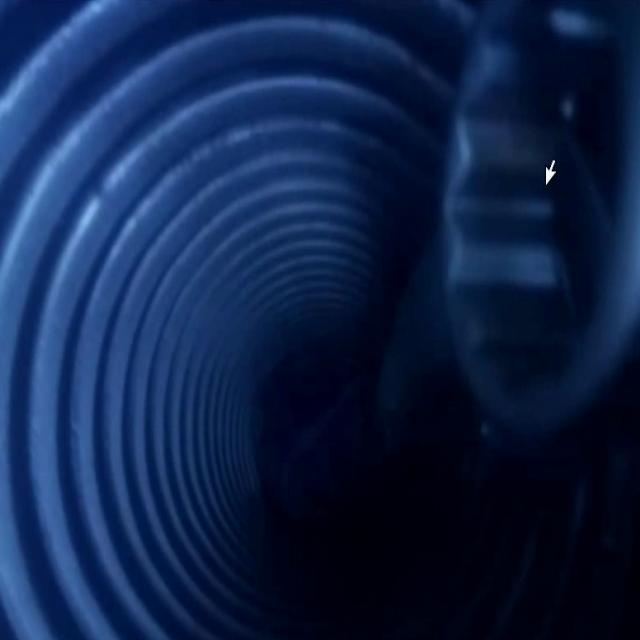metal piece: (433, 0, 640, 443)
